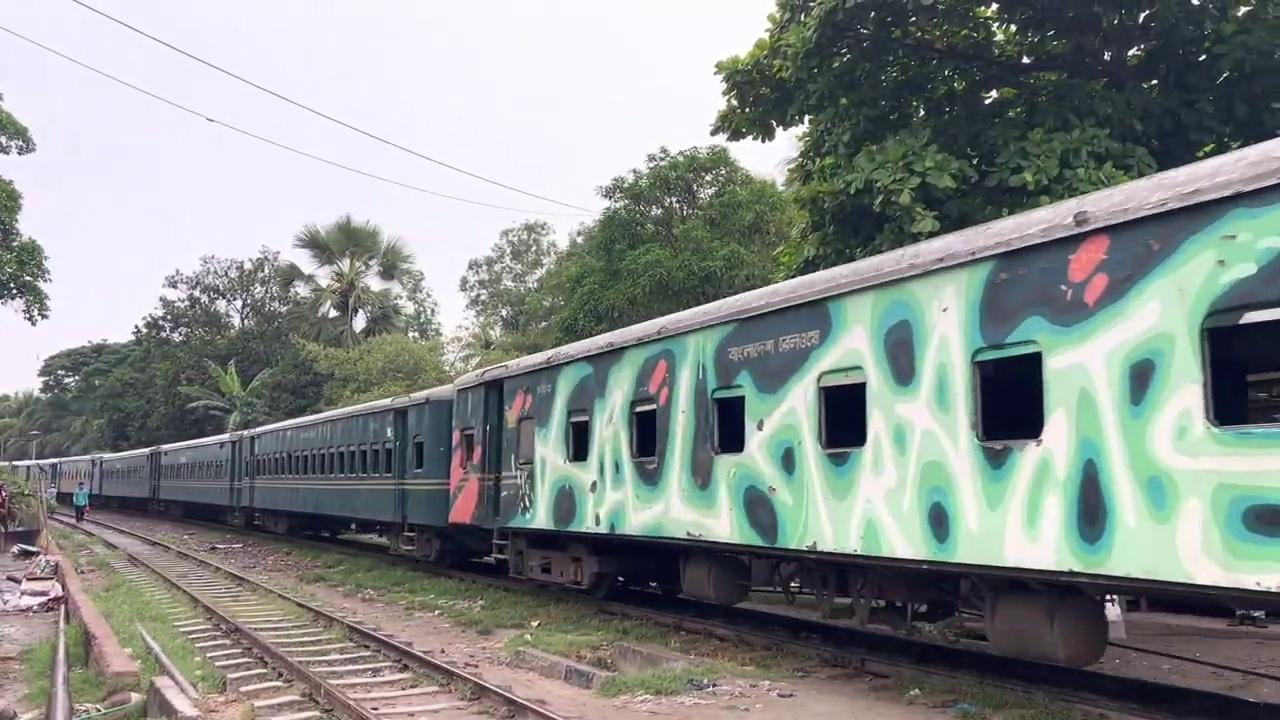Bench: (5, 93, 1280, 629)
Dog: (41, 497, 1276, 717)
Fence: (72, 481, 90, 522), (45, 482, 57, 516)
Garbage: (46, 601, 73, 718)
Motorcycle: (45, 503, 564, 718)
Railroad-crossing: (708, 0, 1278, 277), (538, 142, 804, 347), (276, 212, 420, 349), (455, 217, 562, 365), (0, 94, 51, 327)
